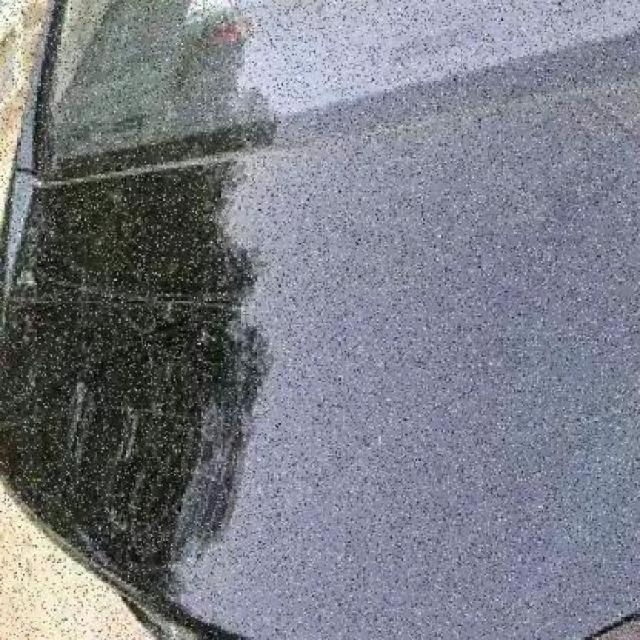Front-Windscreen-Damage: (3, 76, 639, 637)
